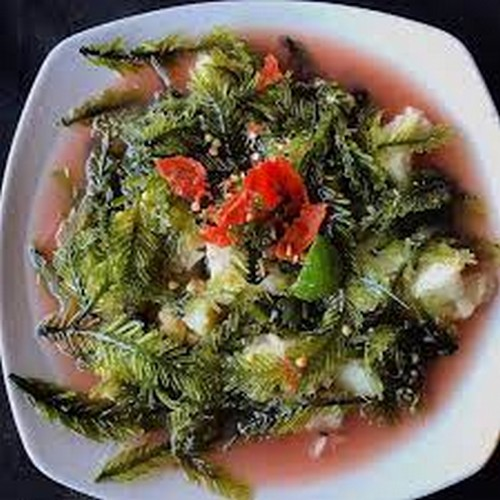bulung buni: (41, 27, 466, 468)
